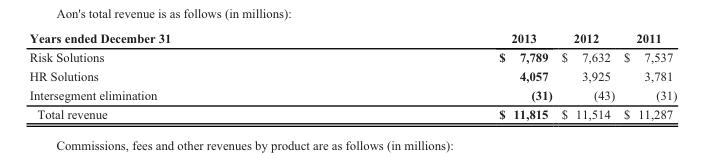table: (28, 28, 676, 122)
table column: (28, 28, 334, 122), (334, 28, 556, 122), (556, 28, 618, 122), (618, 28, 676, 122)
table column header: (28, 28, 676, 46)
table row: (28, 84, 676, 104), (28, 46, 676, 65), (28, 65, 676, 84), (28, 28, 676, 46), (28, 104, 676, 122)
